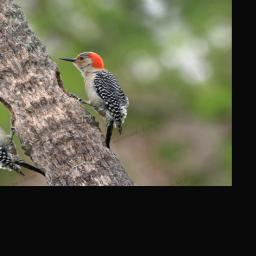Woodpecker: (47, 39, 158, 156)
